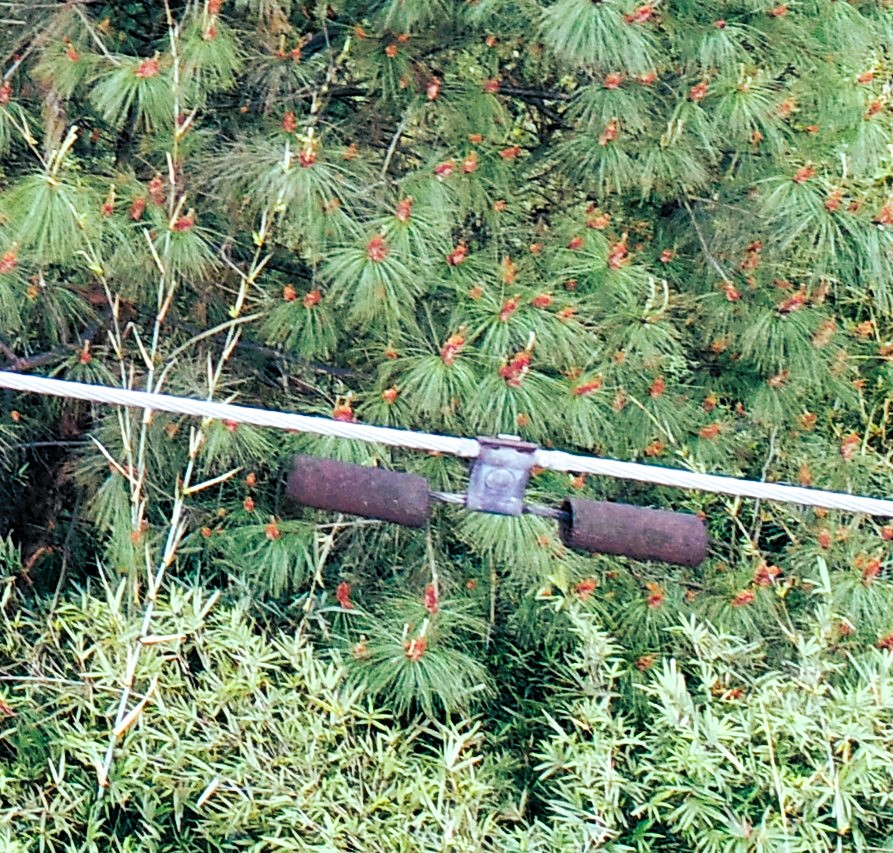Shockproof hammer: (269, 405, 720, 577)
